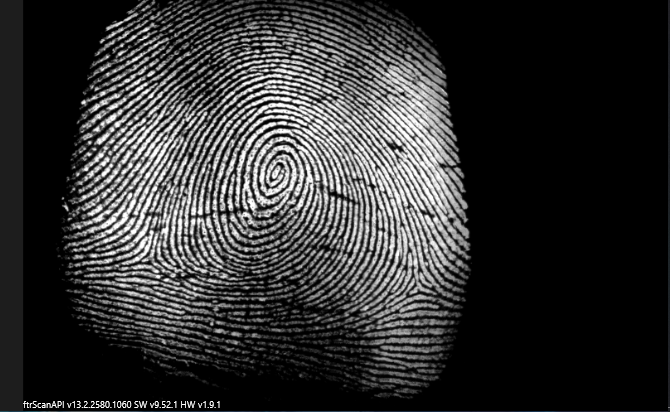nucelo: (264, 155, 286, 187)
verticilo: (405, 276, 435, 301), (136, 249, 161, 269)
